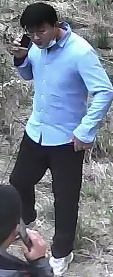phone: (6, 5, 89, 78), (1, 180, 58, 270)
